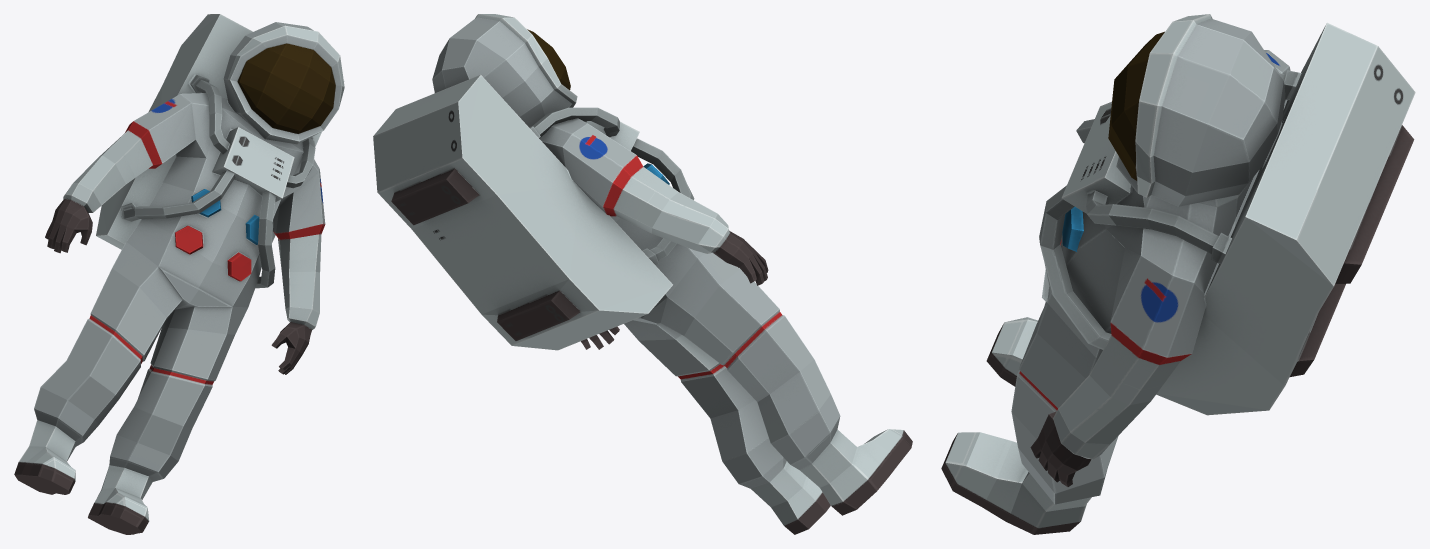
Rendered from tipped_astronaut.glb.
3 views of the same model, side by side, from view 1: azimuth 30°, elevation 25°; view 2: azimuth 150°, elevation 25°; view 3: azimuth 270°, elevation 25° (orthographic). The views are drawn at different scales.
Visible parts, largest first — view 1: Astronaut_mesh; view 2: Astronaut_mesh; view 3: Astronaut_mesh.
Part boxes in pixels (box(x1,y1,x2,y2)): Astronaut_mesh: box(14, 14, 344, 534); Astronaut_mesh: box(373, 14, 912, 534); Astronaut_mesh: box(941, 14, 1415, 534).
Bounding box in the file's own units: 3.3 × 3.51 × 2.22.
Materials: 1 (1 with a texture image).
